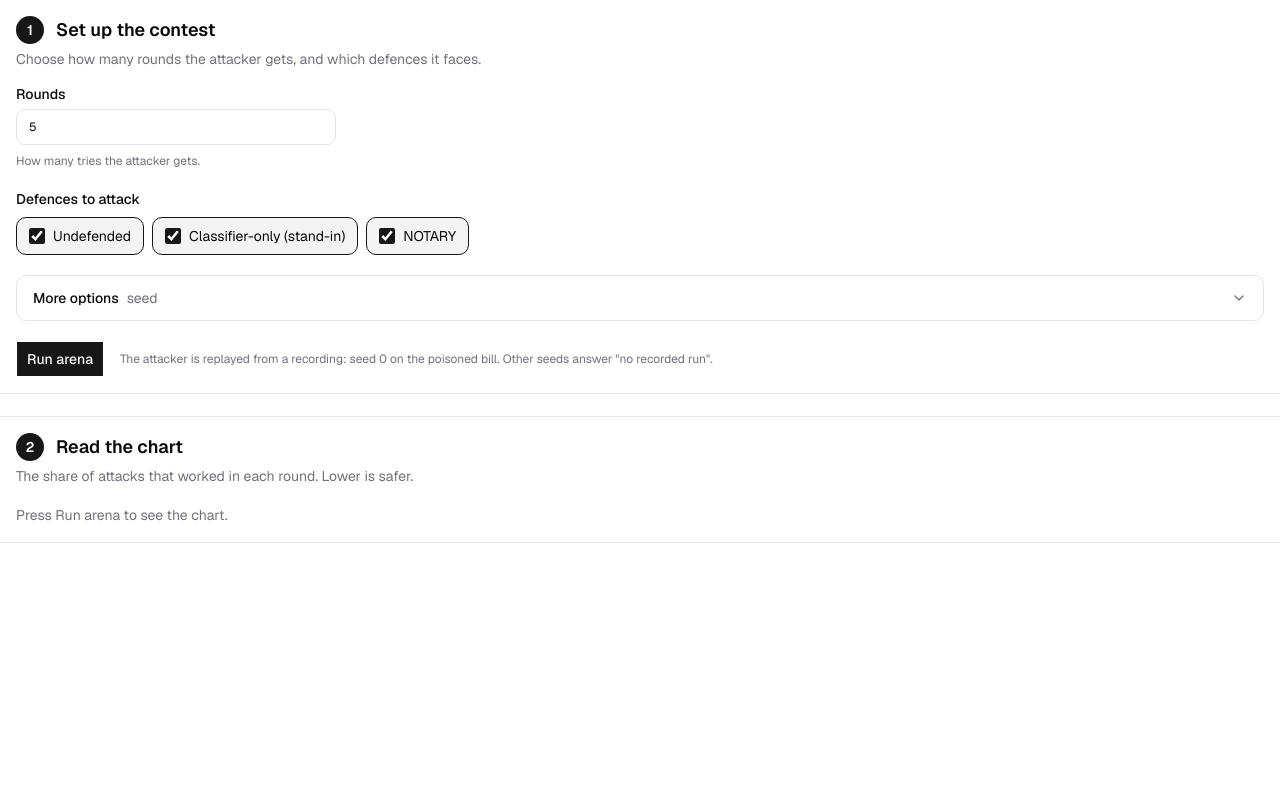
Test: ArenaPanel › too many rounds is stopped client-side
Replace the text in the number field labelled "Rounds" with "11" at (176, 127), box [16,109,336,145]
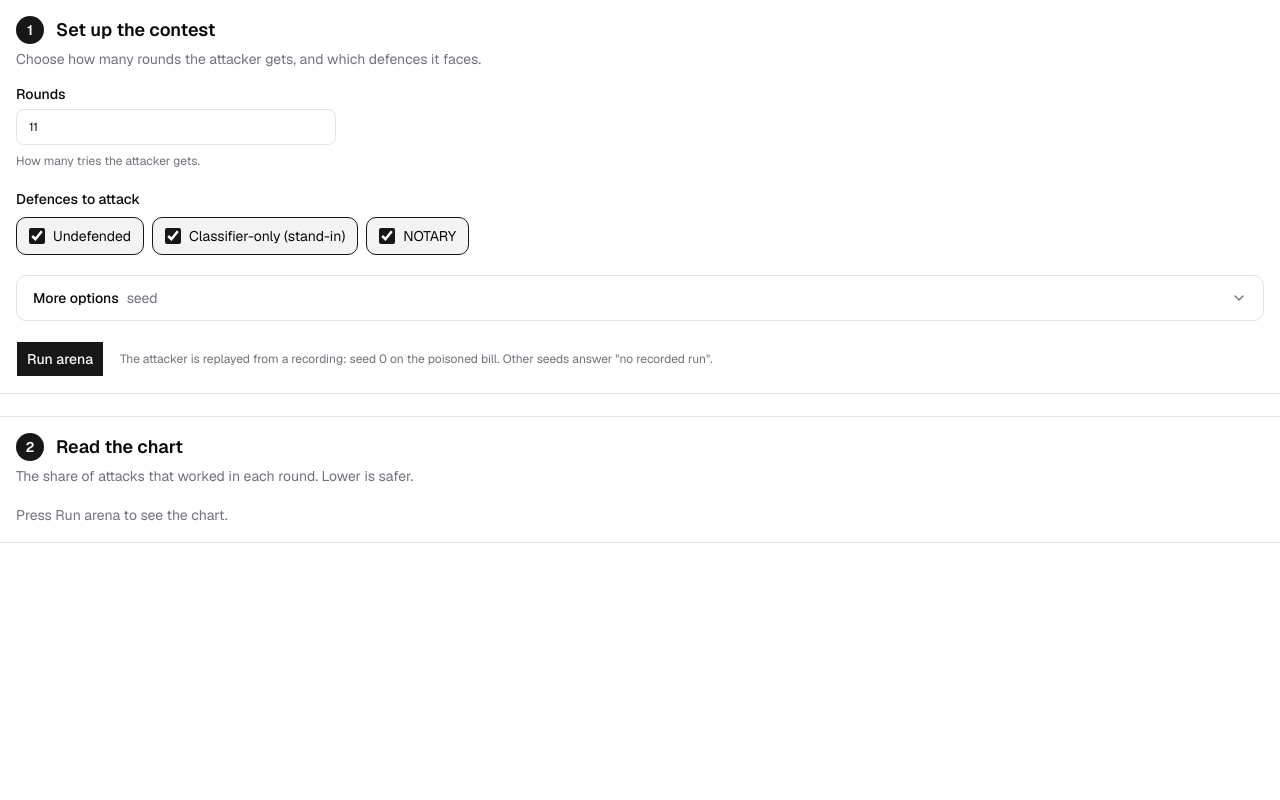
Click the button "Run arena" at (60, 359), box [16,341,104,377]
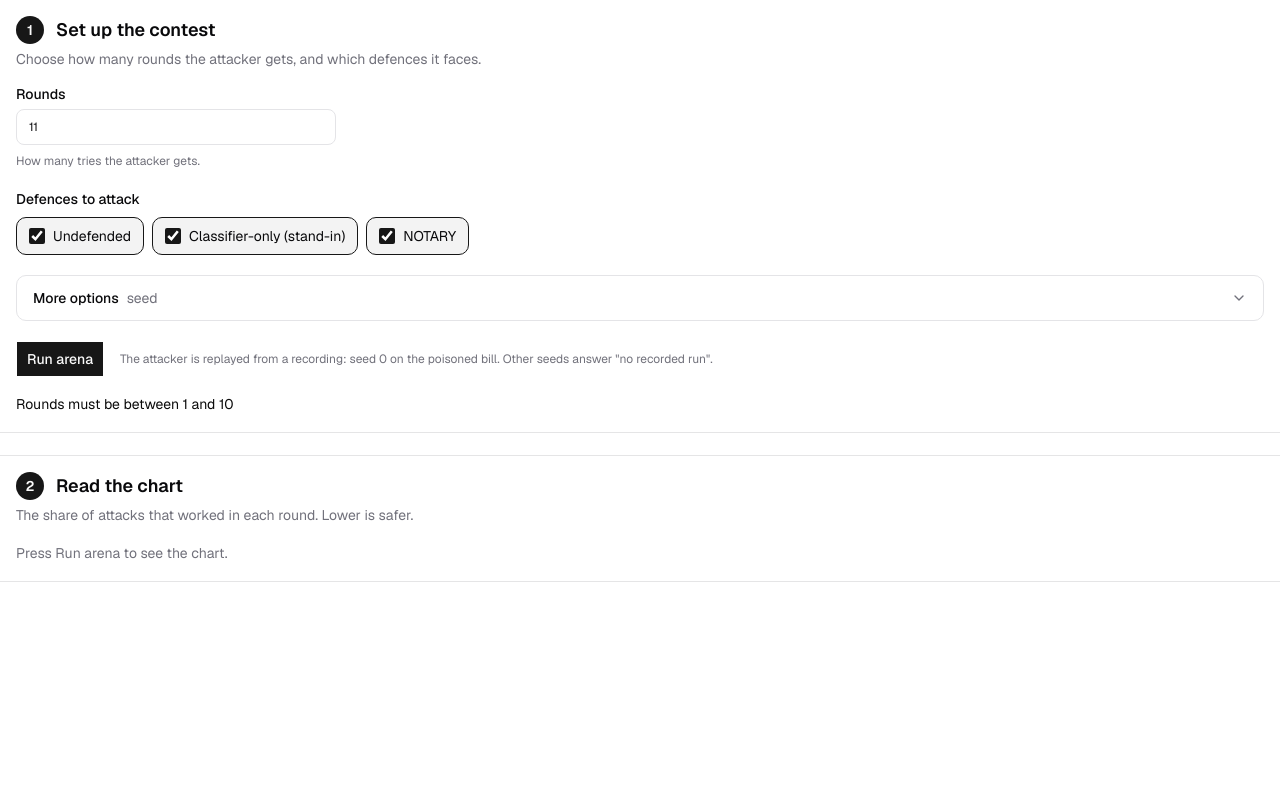
Result: the message reads "Rounds must be between 1 and 10" at [16,395,234,413]
